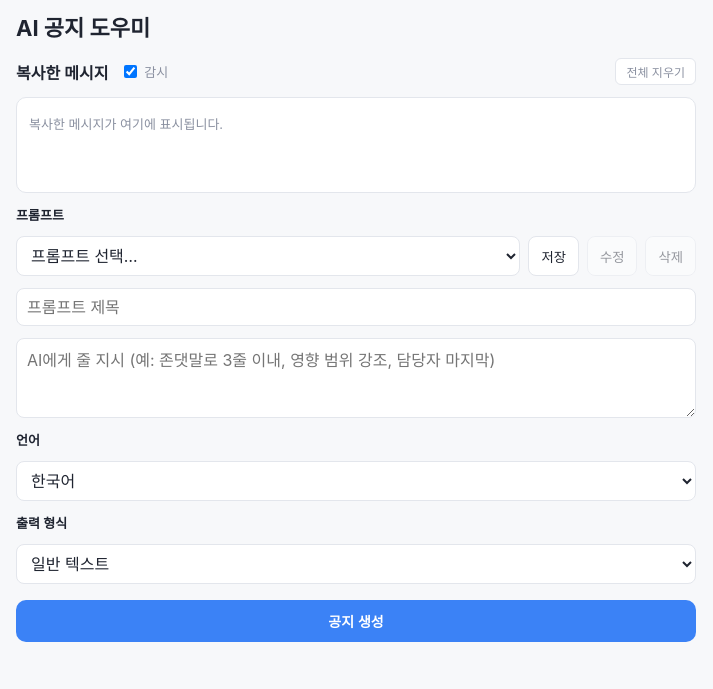
it: MainView › 메시지 미선택 시 공지 생성하면 검증 피드백을 보여주고 generate 이벤트를 내지 않는다
Click the button with test id "generate-btn". click: (356, 621)
box: x1=16 y1=600 x2=696 y2=642
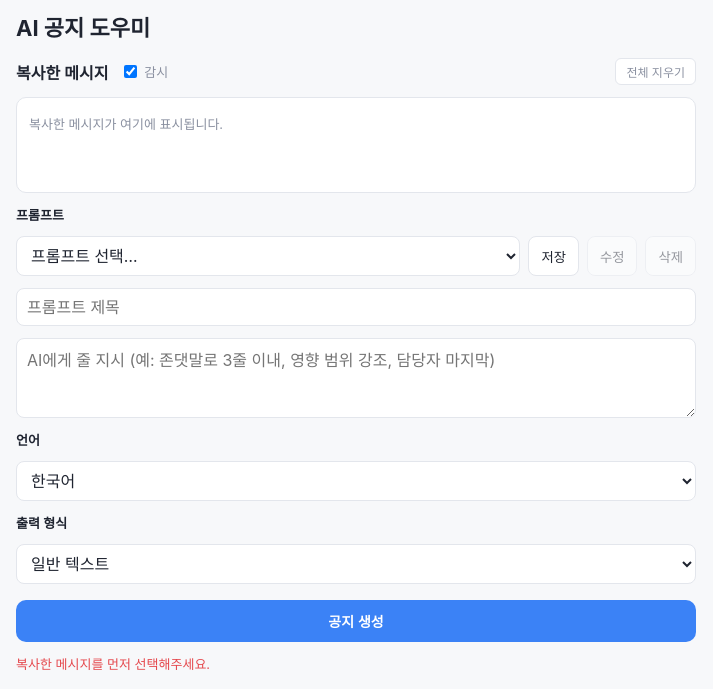
Result: the text "복사한 메시지를 먼저 선택해주세요." is shown at x1=16 y1=656 x2=210 y2=672
